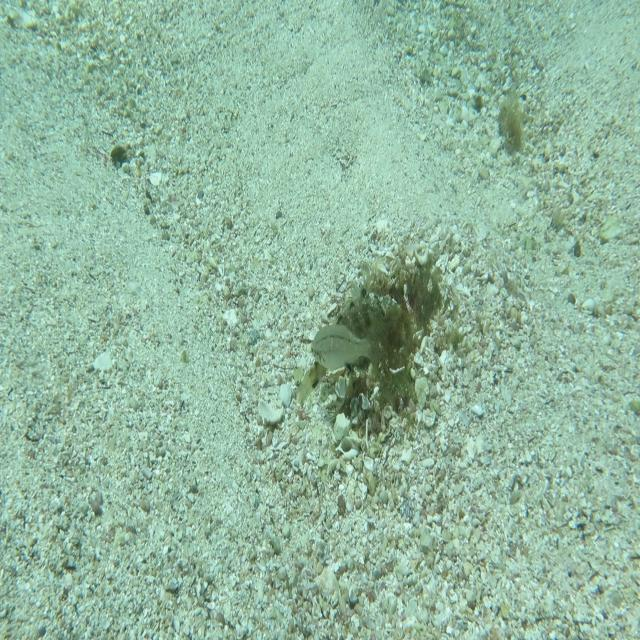BEND: (293, 275, 403, 408)
female: (310, 318, 389, 374)
nest: (327, 236, 447, 432)
